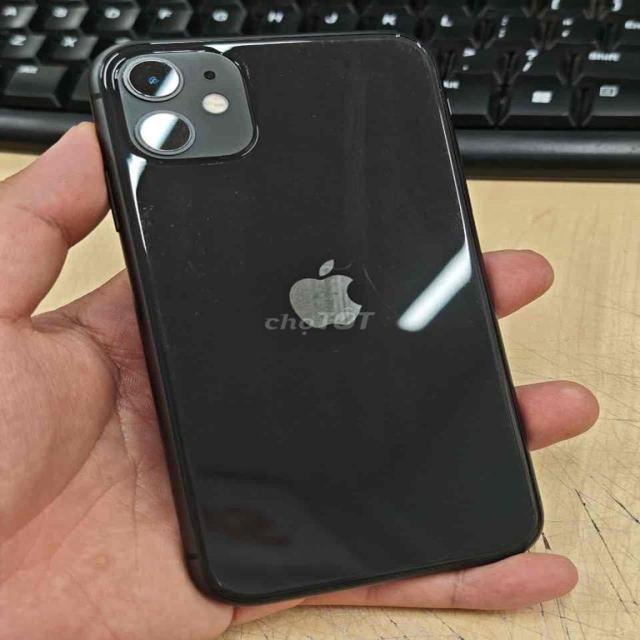scratch: (271, 251, 418, 348), (266, 32, 472, 91), (137, 188, 206, 287), (215, 557, 237, 589)
